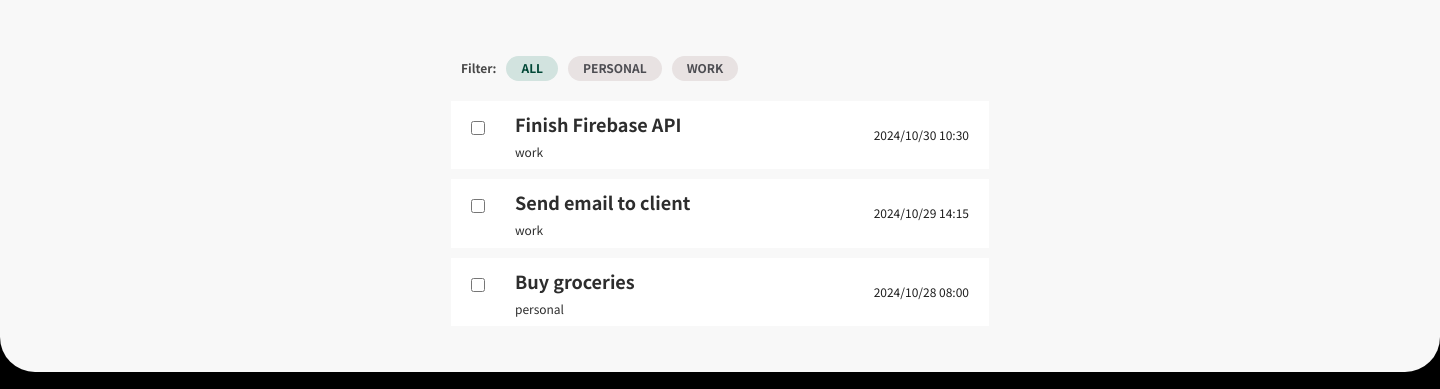
Test: Content Component › filters tasks by category when a filter is applied
Expected: the text "Buy groceries" is shown, left=515, top=268, right=635, bottom=294
Click the button with test id "personal": [615, 68] box left=568, top=56, right=662, bottom=80
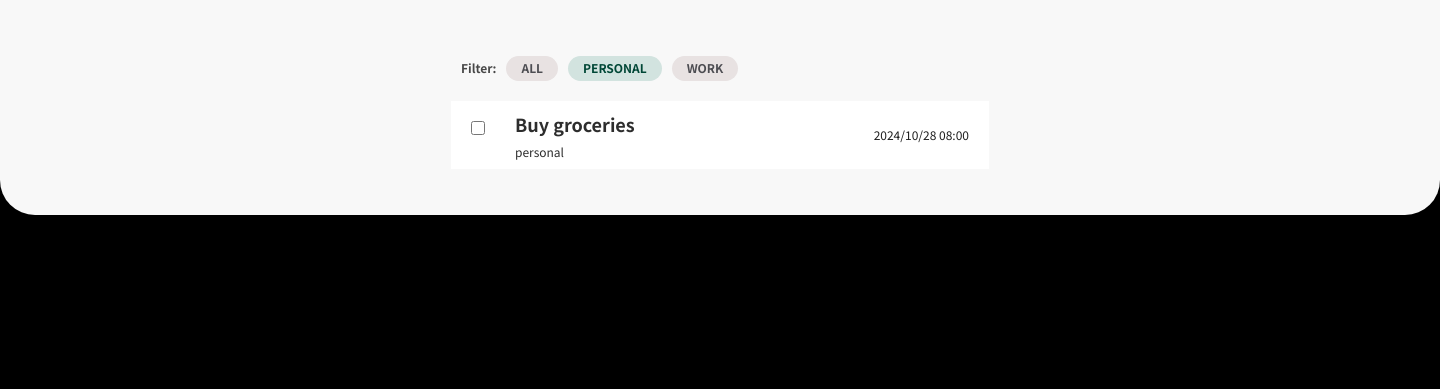
Now the text "Buy groceries" is shown once, box left=515, top=110, right=635, bottom=137
Now the text "Finish Firebase API" is gone
